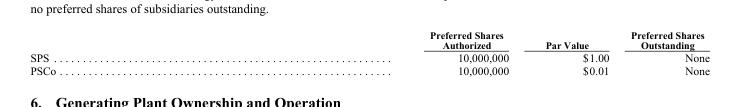table: (29, 28, 708, 76)
table column: (242, 28, 526, 76), (29, 28, 242, 76), (526, 28, 619, 76), (619, 28, 708, 76)
table column header: (29, 28, 708, 50)
table row: (29, 28, 708, 50), (29, 50, 708, 63), (29, 63, 708, 76)
